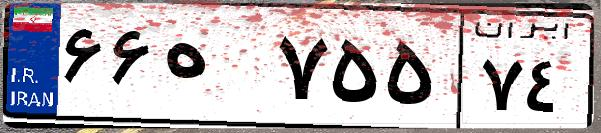4: (525, 38, 570, 115)
5: (385, 28, 445, 110), (330, 28, 385, 110)
6: (57, 26, 110, 100), (110, 28, 158, 98)
7: (270, 28, 330, 110), (475, 38, 525, 113)
ه: (158, 20, 270, 120)
